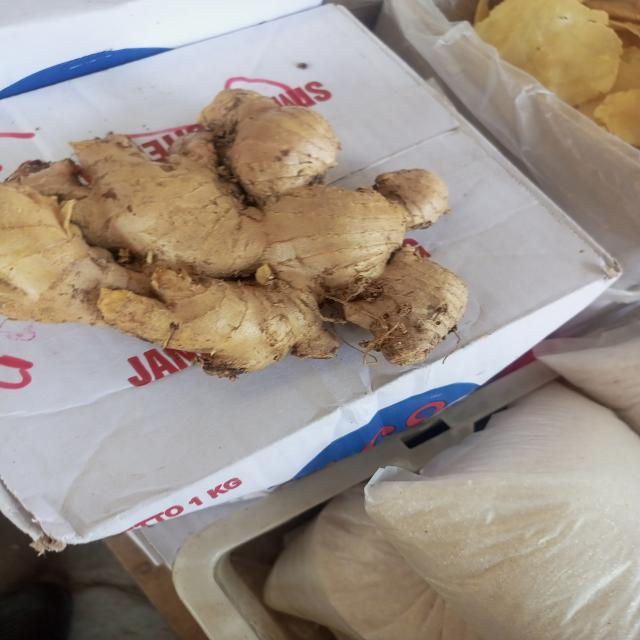ginger: (2, 90, 472, 366)
